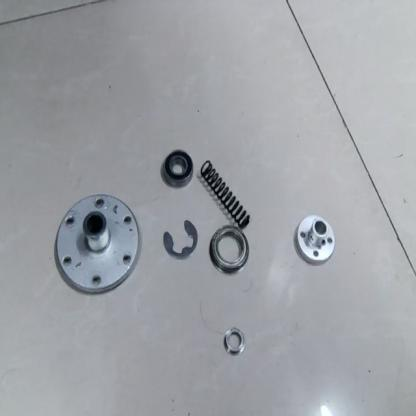FOD: (51, 191, 143, 304), (199, 158, 251, 227), (290, 215, 338, 268), (208, 223, 249, 276), (160, 213, 199, 264), (160, 145, 193, 190), (220, 327, 247, 358)
